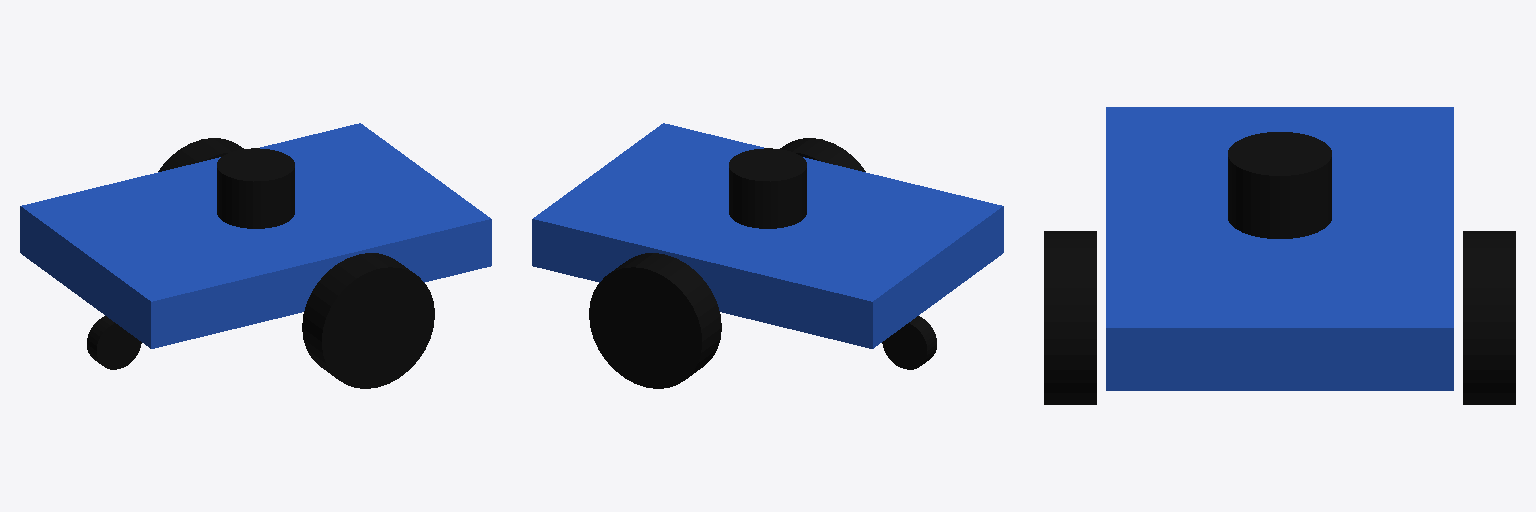
The robot description file, URDF, robot "rw_rover":
<?xml version="1.0"?>
<!-- [ros] A differential-drive rover written for these tests, laid out as ROS mobile robots are: base_footprint on the
     ground, base_link above it, two driven wheels, a free swivel caster behind, and a ros2_control block naming the wheels
     as velocity-commanded (so the caster's joints turn freely). -->
<robot name="rw_rover">
  <material name="body"><color rgba="0.2 0.4 0.8 1"/></material>
  <material name="tyre"><color rgba="0.1 0.1 0.1 1"/></material>

  <link name="base_footprint"/>

  <link name="base_link">
    <visual><origin xyz="0 0 0.03"/><geometry><box size="0.30 0.20 0.04"/></geometry><material name="body"/></visual>
    <collision><origin xyz="0 0 0.03"/><geometry><box size="0.30 0.20 0.04"/></geometry></collision>
    <inertial><mass value="2.0"/><inertia ixx="0.01" iyy="0.02" izz="0.02" ixy="0" ixz="0" iyz="0"/></inertial>
  </link>
  <joint name="base_joint" type="fixed">
    <parent link="base_footprint"/><child link="base_link"/><origin xyz="0 0 0.05"/>
  </joint>

  <link name="wheel_left_link">
    <visual><origin rpy="1.5708 0 0"/><geometry><cylinder radius="0.05" length="0.03"/></geometry><material name="tyre"/></visual>
    <collision><origin rpy="1.5708 0 0"/><geometry><cylinder radius="0.05" length="0.03"/></geometry></collision>
    <inertial><mass value="0.2"/><inertia ixx="0.0002" iyy="0.00025" izz="0.0002" ixy="0" ixz="0" iyz="0"/></inertial>
  </link>
  <joint name="wheel_left_joint" type="continuous">
    <parent link="base_link"/><child link="wheel_left_link"/><origin xyz="0.03 0.12 0"/><axis xyz="0 1 0"/>
    <limit effort="2" velocity="20"/>
  </joint>

  <link name="wheel_right_link">
    <visual><origin rpy="1.5708 0 0"/><geometry><cylinder radius="0.05" length="0.03"/></geometry><material name="tyre"/></visual>
    <collision><origin rpy="1.5708 0 0"/><geometry><cylinder radius="0.05" length="0.03"/></geometry></collision>
    <inertial><mass value="0.2"/><inertia ixx="0.0002" iyy="0.00025" izz="0.0002" ixy="0" ixz="0" iyz="0"/></inertial>
  </link>
  <joint name="wheel_right_joint" type="continuous">
    <parent link="base_link"/><child link="wheel_right_link"/><origin xyz="0.03 -0.12 0"/><axis xyz="0 1 0"/>
    <limit effort="2" velocity="20"/>
  </joint>

  <link name="caster_swivel_link">
    <visual><origin xyz="0 0 0.018"/><geometry><box size="0.02 0.02 0.01"/></geometry></visual>
    <inertial><mass value="0.03"/><inertia ixx="0.000001" iyy="0.000001" izz="0.000001" ixy="0" ixz="0" iyz="0"/></inertial>
  </link>
  <joint name="caster_swivel_joint" type="continuous">
    <parent link="base_link"/><child link="caster_swivel_link"/><origin xyz="-0.11 0 -0.02"/><axis xyz="0 0 1"/>
  </joint>

  <link name="caster_wheel_link">
    <visual><origin rpy="1.5708 0 0"/><geometry><cylinder radius="0.02" length="0.015"/></geometry><material name="tyre"/></visual>
    <collision><origin rpy="1.5708 0 0"/><geometry><cylinder radius="0.02" length="0.015"/></geometry></collision>
    <inertial><mass value="0.03"/><inertia ixx="0.000003" iyy="0.000006" izz="0.000003" ixy="0" ixz="0" iyz="0"/></inertial>
  </link>
  <joint name="caster_wheel_joint" type="continuous">
    <parent link="caster_swivel_link"/><child link="caster_wheel_link"/><origin xyz="-0.015 0 -0.01"/><axis xyz="0 1 0"/>
  </joint>

  <!-- A laser scanner on a post and an IMU inside the body, declared for the simulator as Gazebo reads them. -->
  <link name="base_scan">
    <visual><geometry><cylinder radius="0.03" length="0.04"/></geometry><material name="tyre"/></visual>
    <collision><geometry><cylinder radius="0.03" length="0.04"/></geometry></collision>
    <inertial><mass value="0.1"/><inertia ixx="0.00003" iyy="0.00003" izz="0.00005" ixy="0" ixz="0" iyz="0"/></inertial>
  </link>
  <joint name="scan_joint" type="fixed">
    <parent link="base_link"/><child link="base_scan"/><origin xyz="0 0 0.07"/>
  </joint>
  <link name="imu_link"/>
  <joint name="imu_joint" type="fixed">
    <parent link="base_link"/><child link="imu_link"/><origin xyz="-0.03 0 0.01"/>
  </joint>

  <gazebo reference="base_scan">
    <sensor type="ray" name="lds_sensor">
      <pose>0 0 0 0 0 0</pose>
      <update_rate>5</update_rate>
      <ray>
        <scan><horizontal><samples>360</samples><resolution>1</resolution><min_angle>0.0</min_angle><max_angle>6.28319</max_angle></horizontal></scan>
        <range><min>0.12</min><max>3.5</max><resolution>0.015</resolution></range>
        <noise><type>gaussian</type><mean>0.0</mean><stddev>0.01</stddev></noise>
      </ray>
      <plugin name="rover_laserscan" filename="libgazebo_ros_ray_sensor.so">
        <ros><remapping>~/out:=scan</remapping></ros>
        <output_type>sensor_msgs/LaserScan</output_type>
        <frame_name>base_scan</frame_name>
      </plugin>
    </sensor>
  </gazebo>
  <gazebo reference="imu_link">
    <sensor type="imu" name="rover_imu">
      <update_rate>100</update_rate>
      <imu>
        <angular_velocity>
          <x><noise type="gaussian"><mean>0</mean><stddev>2e-4</stddev></noise></x>
          <y><noise type="gaussian"><mean>0</mean><stddev>2e-4</stddev></noise></y>
          <z><noise type="gaussian"><mean>0</mean><stddev>2e-4</stddev></noise></z>
        </angular_velocity>
        <linear_acceleration>
          <x><noise type="gaussian"><mean>0</mean><stddev>1.7e-2</stddev></noise></x>
          <y><noise type="gaussian"><mean>0</mean><stddev>1.7e-2</stddev></noise></y>
          <z><noise type="gaussian"><mean>0</mean><stddev>1.7e-2</stddev></noise></z>
        </linear_acceleration>
      </imu>
      <plugin name="rover_imu" filename="libgazebo_ros_imu_sensor.so">
        <ros><remapping>~/out:=imu</remapping></ros>
      </plugin>
    </sensor>
  </gazebo>

  <ros2_control name="rover" type="system">
    <hardware><plugin>mock_components/GenericSystem</plugin></hardware>
    <joint name="wheel_left_joint">
      <command_interface name="velocity"/><state_interface name="position"/><state_interface name="velocity"/>
    </joint>
    <joint name="wheel_right_joint">
      <command_interface name="velocity"/><state_interface name="position"/><state_interface name="velocity"/>
    </joint>
  </ros2_control>
</robot>

--- Facts derived from the render (not from the file) ---
The picture shows the robot from 3 angles, left to right: view 1: azimuth 30°, elevation 25°; view 2: azimuth 150°, elevation 25°; view 3: azimuth 270°, elevation 25°; orthographic projection.
Model rw_rover with 8 links and 7 joints (4 continuous, 3 fixed), rooted at base_footprint, posed all joints at 0.
Links seen in each view (by area): view 1: base_link, wheel_right_link, base_scan, caster_wheel_link, wheel_left_link; view 2: base_link, wheel_left_link, base_scan, caster_wheel_link, wheel_right_link; view 3: base_link, base_scan, wheel_left_link, wheel_right_link.
Boxes of the visible links, left/top/right/bottom form: base_link: left=20, top=123, right=491, bottom=348; wheel_right_link: left=302, top=253, right=434, bottom=388; base_scan: left=217, top=148, right=294, bottom=228; caster_wheel_link: left=87, top=316, right=141, bottom=369; wheel_left_link: left=158, top=138, right=243, bottom=171; base_link: left=532, top=123, right=1003, bottom=348; wheel_left_link: left=589, top=253, right=721, bottom=388; base_scan: left=729, top=148, right=806, bottom=228; caster_wheel_link: left=882, top=316, right=936, bottom=369; wheel_right_link: left=780, top=138, right=865, bottom=171; base_link: left=1106, top=107, right=1453, bottom=390; base_scan: left=1228, top=132, right=1331, bottom=238; wheel_left_link: left=1463, top=231, right=1515, bottom=404; wheel_right_link: left=1044, top=231, right=1096, bottom=404.
Bounding box of the posed robot: 0.3 × 0.27 × 0.14 m (x, y, z).
Geometry: primitives only (box / cylinder / sphere), no mesh files.
